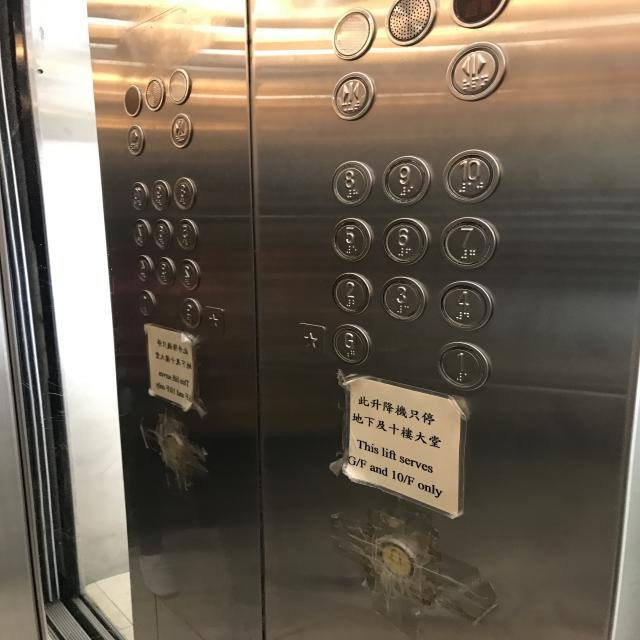1: (432, 340, 490, 392)
10: (440, 148, 501, 204)
2: (330, 272, 372, 316)
3: (378, 276, 428, 322)
4: (434, 279, 492, 331)
5: (329, 216, 374, 262)
6: (379, 217, 430, 266)
7: (438, 217, 498, 270)
8: (328, 160, 374, 208)
9: (380, 154, 431, 206)
G: (329, 324, 372, 366)
close: (330, 70, 375, 121), (168, 112, 193, 149), (124, 124, 146, 156)
empty: (330, 6, 375, 60), (166, 67, 191, 105), (121, 84, 142, 118)
open: (444, 40, 506, 102)
s: (296, 320, 326, 360), (202, 305, 225, 334)
speaker: (382, 0, 437, 46), (143, 77, 165, 111)
unknown: (172, 176, 196, 211), (174, 218, 198, 252), (177, 258, 200, 290), (179, 296, 201, 329), (152, 218, 174, 250), (148, 179, 170, 211), (154, 256, 176, 287), (133, 254, 154, 283), (131, 218, 151, 248), (128, 181, 148, 211), (137, 289, 156, 317)
